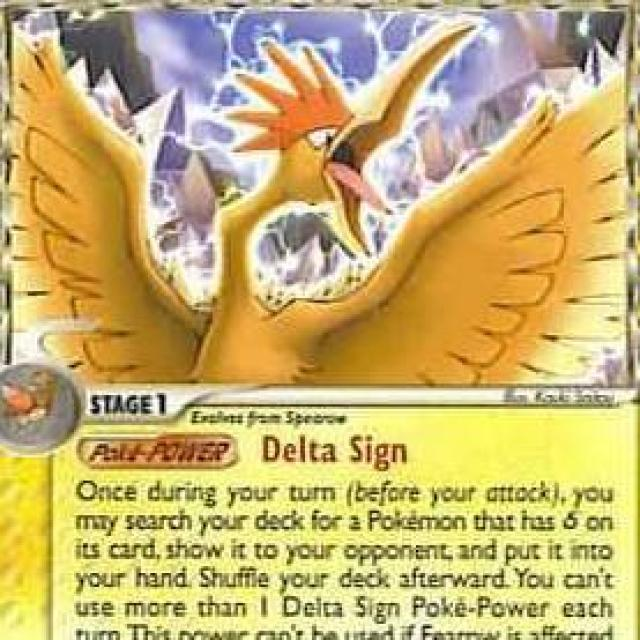Fearow: (3, 5, 640, 385)
